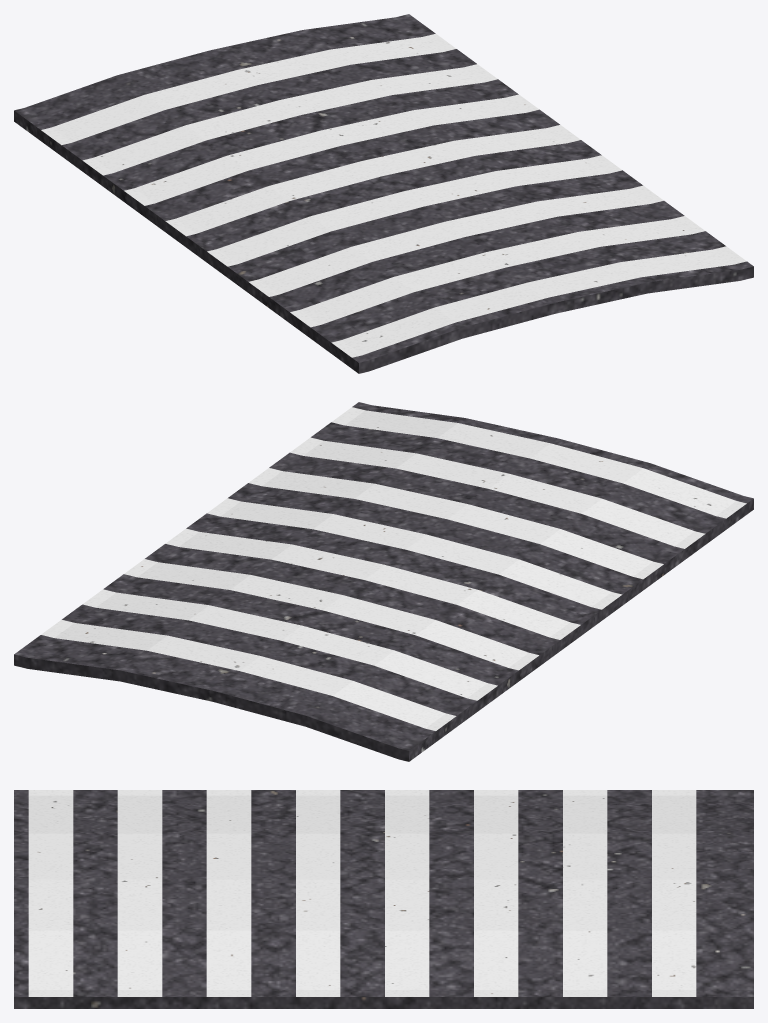
File: Zebra.fbx
3 renders of one model, top to bottom at view 1: azimuth 30°, elevation 25°; view 2: azimuth 150°, elevation 25°; view 3: azimuth 270°, elevation 25°, orthographic. The views are drawn at different scales.
Visible parts, largest first — view 1: pCube60; view 2: pCube60; view 3: pCube60.
Boxes of the visible parts, x1,y1,x2,y2 form: pCube60: (14,14,753,373); pCube60: (14,402,753,761); pCube60: (14,790,753,1008).
Size of the model in its own units: 1279 by 72.11 by 1934.
